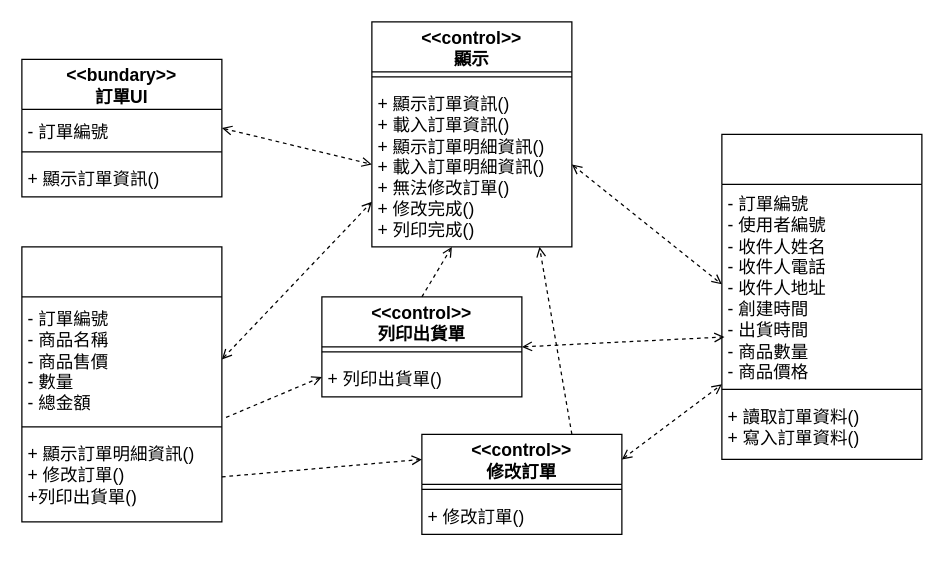
Image size: 944x563. Some labels were removed from this diagram. The shapes that lost their labels are listed below. From the top down, each one's box as (x1, y1, x2, y2) in pixels, then its label:
(721, 133, 922, 459): <<entity>> 訂單資料
(21, 246, 222, 522): <<bundary>> 訂單明細UI
